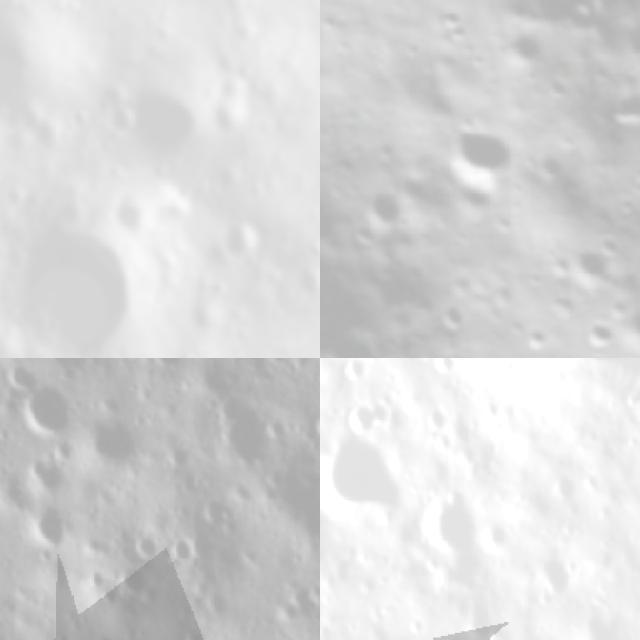crater: (11, 202, 171, 358), (0, 1, 92, 155), (429, 101, 538, 210), (128, 84, 212, 173), (320, 433, 403, 514), (320, 135, 362, 284), (4, 361, 74, 438), (496, 20, 562, 86), (587, 76, 640, 149), (320, 318, 396, 358), (23, 510, 86, 552), (436, 493, 480, 553), (572, 310, 625, 358), (531, 546, 574, 600), (432, 294, 476, 338), (550, 466, 578, 507), (343, 358, 372, 383), (431, 428, 457, 455), (486, 522, 510, 550), (418, 548, 442, 575), (423, 404, 452, 426), (482, 398, 506, 424), (408, 610, 426, 634), (435, 358, 460, 373)
